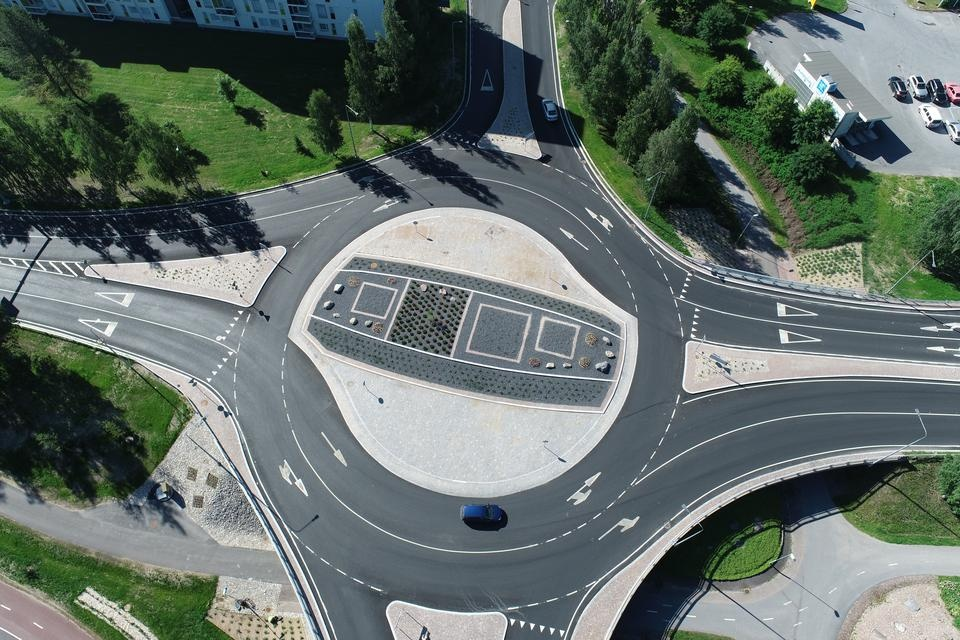roundabout: (199, 109, 728, 640)
